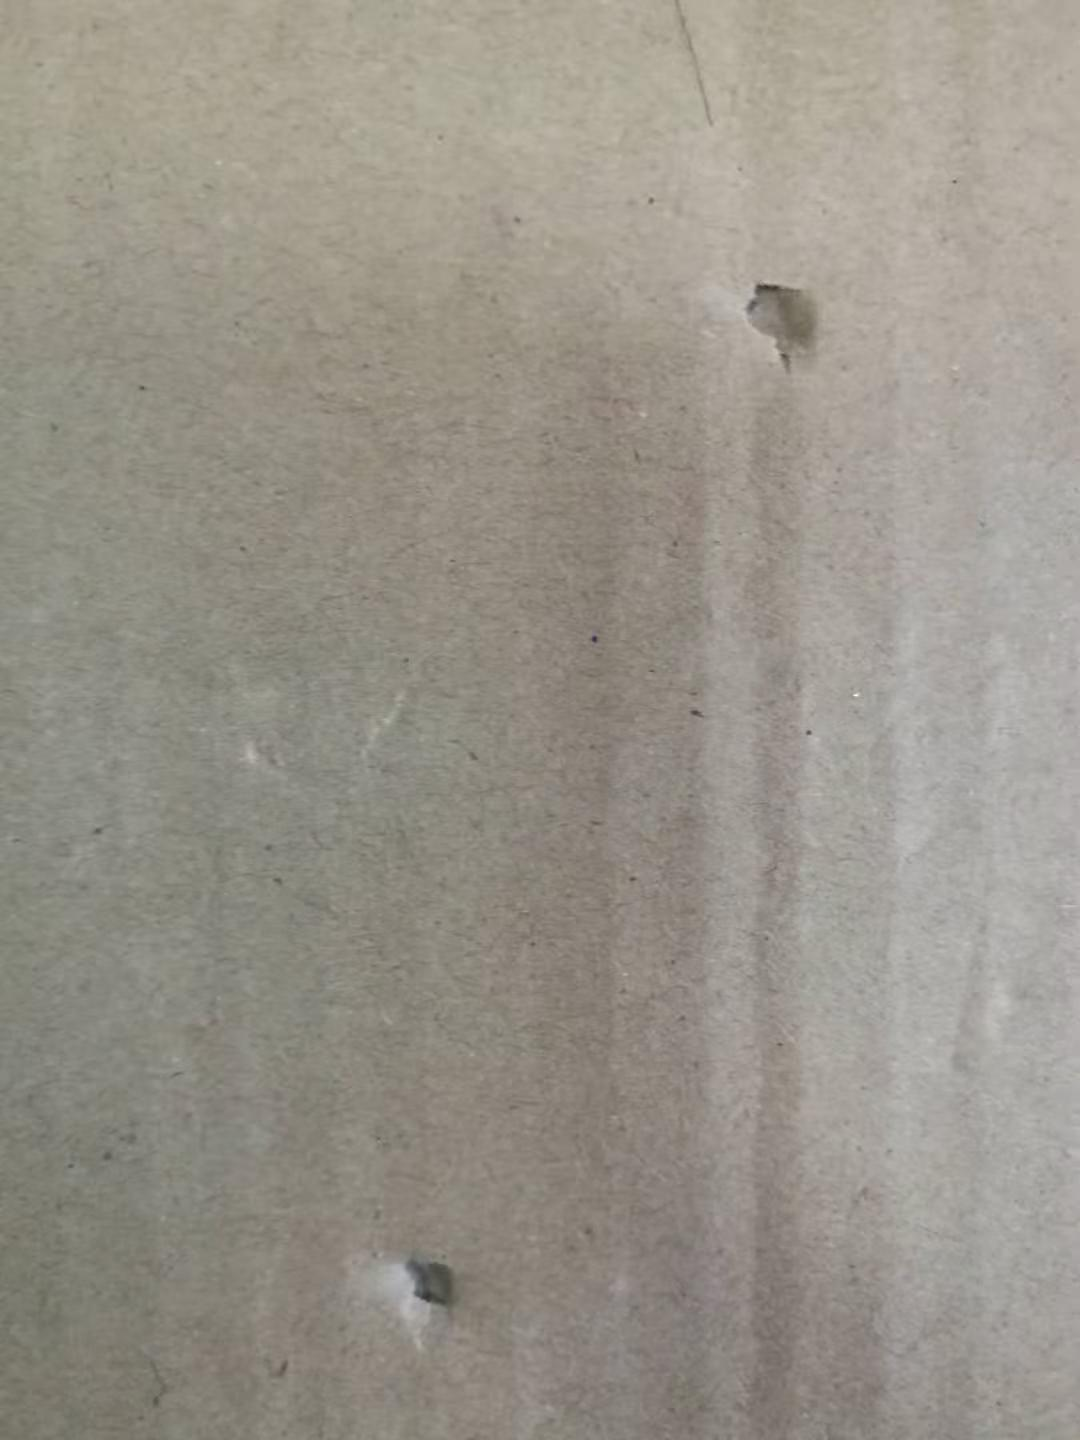defect: (683, 407, 852, 1440), (715, 244, 855, 405), (348, 1230, 497, 1362)
